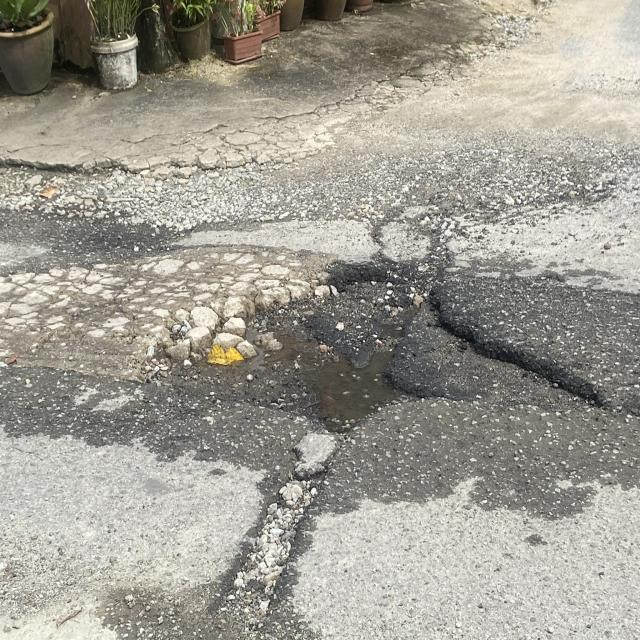pothole: (291, 228, 636, 560)
